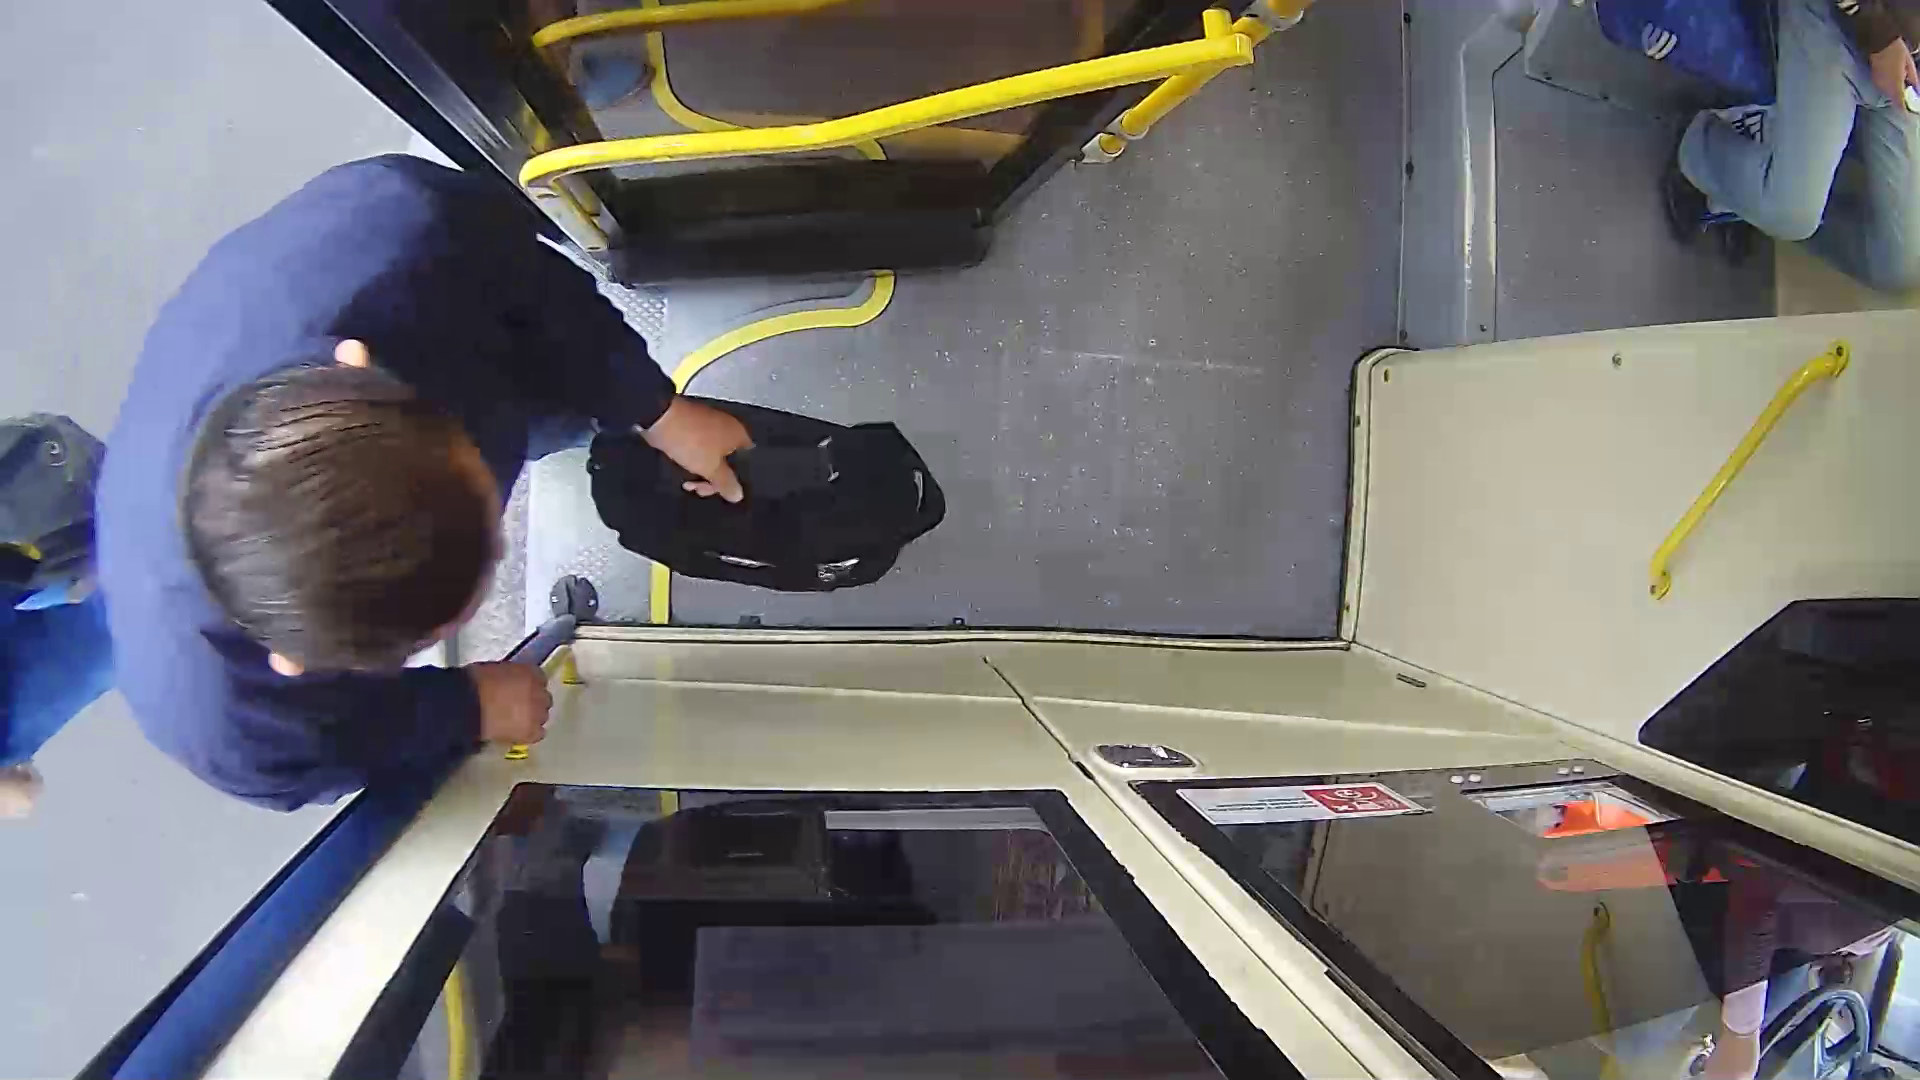person: (104, 114, 780, 761)
